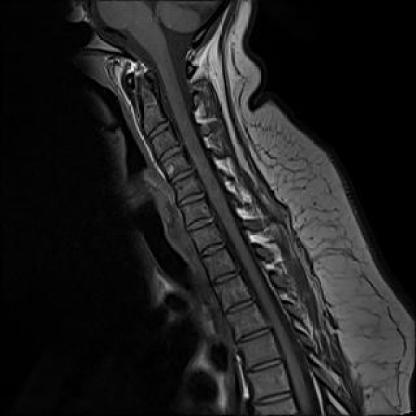Annular Disc Relaxationrotation: (165, 170, 197, 184), (174, 193, 207, 206)
